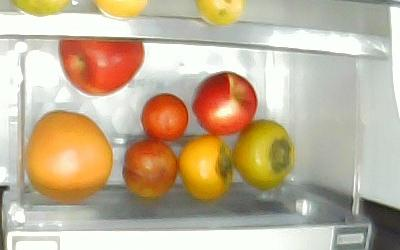apple: (58, 40, 144, 96), (190, 70, 258, 136)
grapefruit: (23, 108, 113, 202)
persimmon: (231, 118, 294, 190), (177, 133, 234, 202)
prune: (120, 137, 178, 198), (140, 92, 188, 141)
